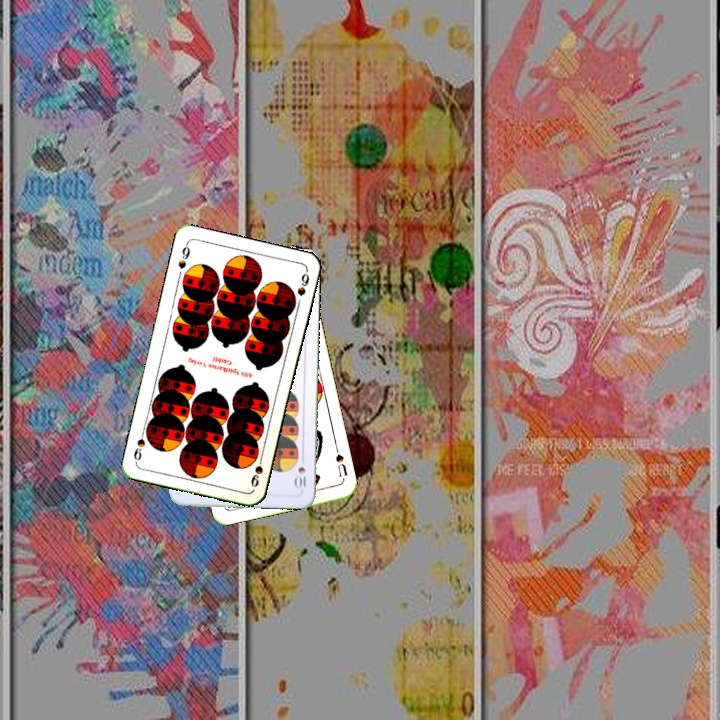S10: (292, 463, 308, 491)
S9: (247, 450, 266, 490), (174, 239, 193, 272)
SU: (331, 443, 350, 479)
